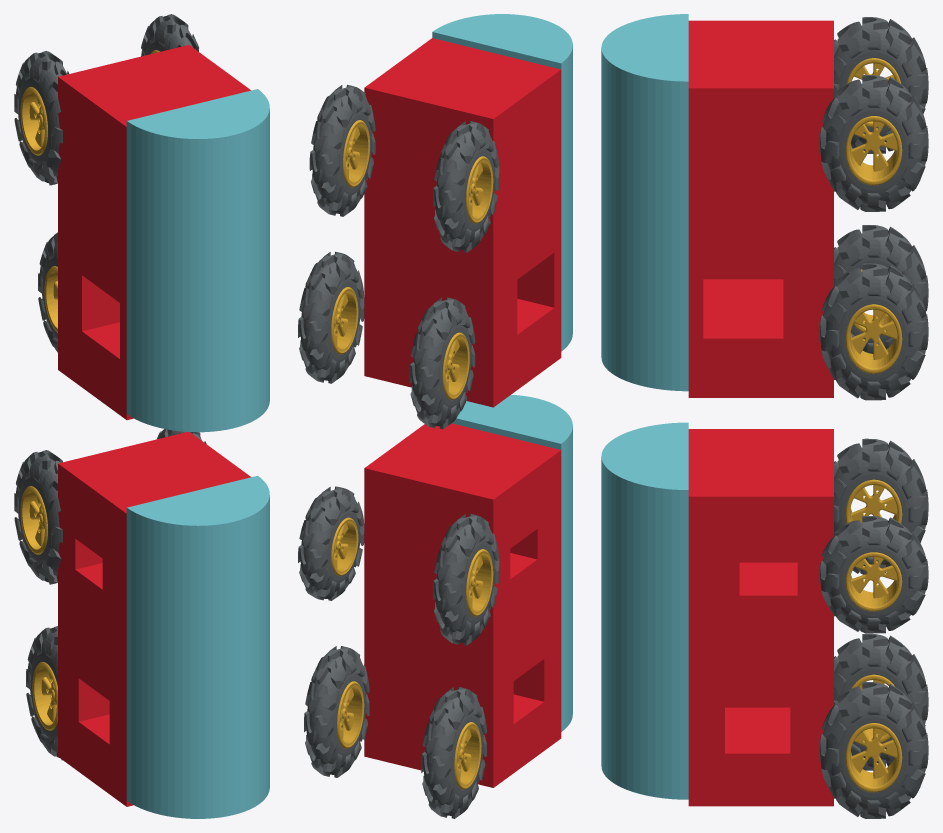
File: tinker.obj
The picture shows the model from 3 angles, left to right: view 1: azimuth 30°, elevation 25°; view 2: azimuth 150°, elevation 25°; view 3: azimuth 270°, elevation 25°; orthographic projection. The views are drawn at different scales.
Parts seen in each view (by area): view 1: group_0_7720667, group_0_15277357, group_0_6383466, group_0_14789940; view 2: group_0_15277357, group_0_6383466, group_0_7720667, group_0_14789940; view 3: group_0_15277357, group_0_7720667, group_0_6383466, group_0_14789940.
Boxes of the visible parts, left/top/right/bottom form: group_0_7720667: left=126, top=89, right=269, bottom=818; group_0_15277357: left=58, top=45, right=251, bottom=806; group_0_6383466: left=14, top=14, right=206, bottom=760; group_0_14789940: left=20, top=50, right=159, bottom=730; group_0_15277357: left=364, top=38, right=561, bottom=787; group_0_6383466: left=298, top=84, right=499, bottom=818; group_0_7720667: left=432, top=14, right=572, bottom=731; group_0_14789940: left=331, top=120, right=493, bottom=789; group_0_15277357: left=688, top=20, right=833, bottom=806; group_0_7720667: left=601, top=14, right=688, bottom=799; group_0_6383466: left=819, top=17, right=928, bottom=818; group_0_14789940: left=845, top=58, right=902, bottom=792.
Size of the model in its own units: 28 by 114 by 45.
